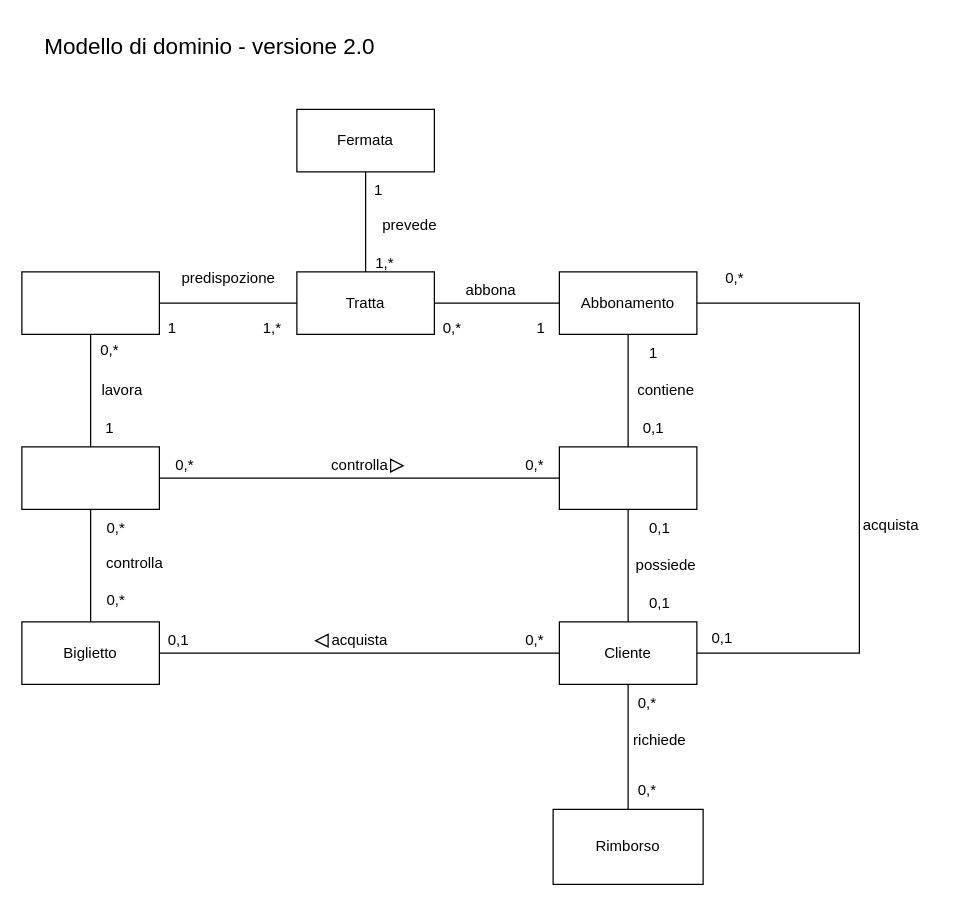
This 956x906 diagram has some shape labels left out. Here are the shapes that lost their labels. From the top down, the centre of each, then its label:
the point at 90,302: Treno
the point at 90,477: Dipendente
the point at 627,477: Tessera
